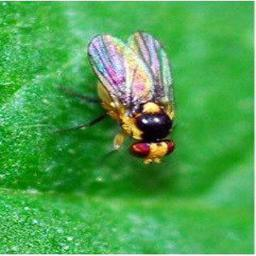liriomyza: (53, 32, 176, 165)
